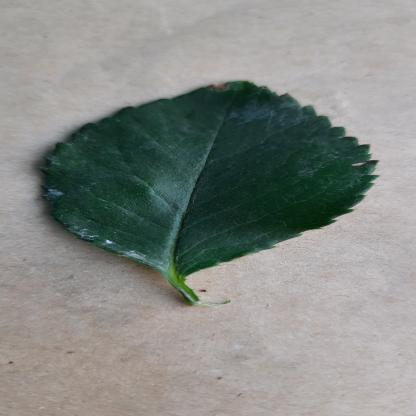normal: (40, 76, 392, 273)
